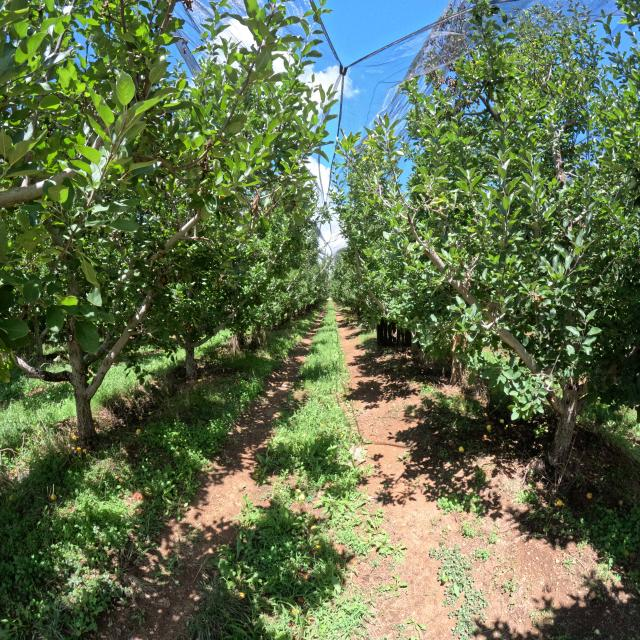-FireBlight-: (199, 152, 213, 176), (452, 332, 468, 353), (251, 194, 261, 213)
